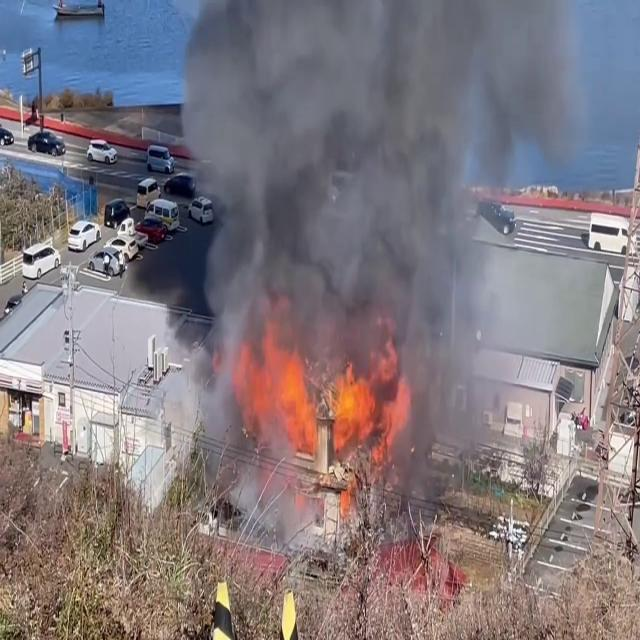Fire: (233, 324, 411, 519)
Smoke: (164, 0, 530, 386)
